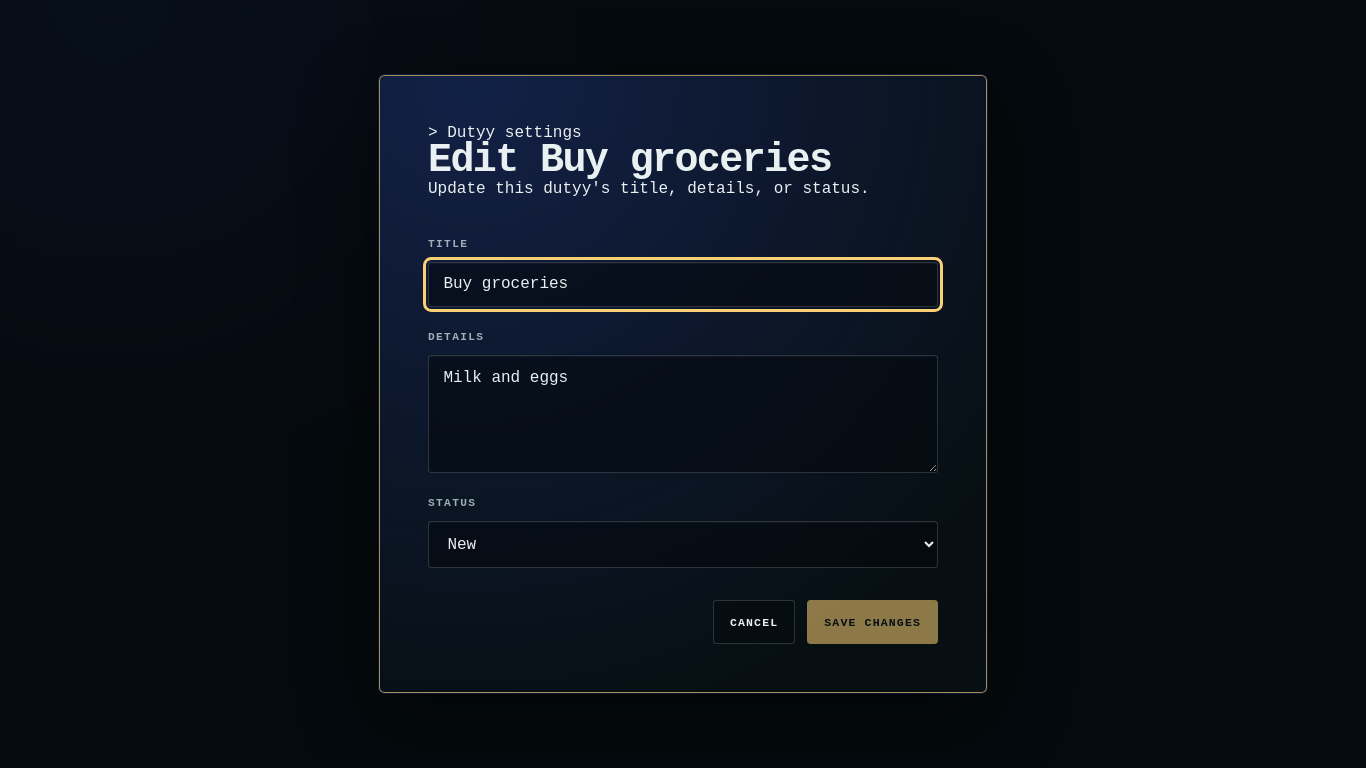
Scenario: EditDutyyModal › keeps the dialog open and shows API failures
The width and height of the screenshot is (1366, 768).
Replace the text in the field labelled "Title" with "Weekly shopping": (683, 284) [428, 262, 938, 307]
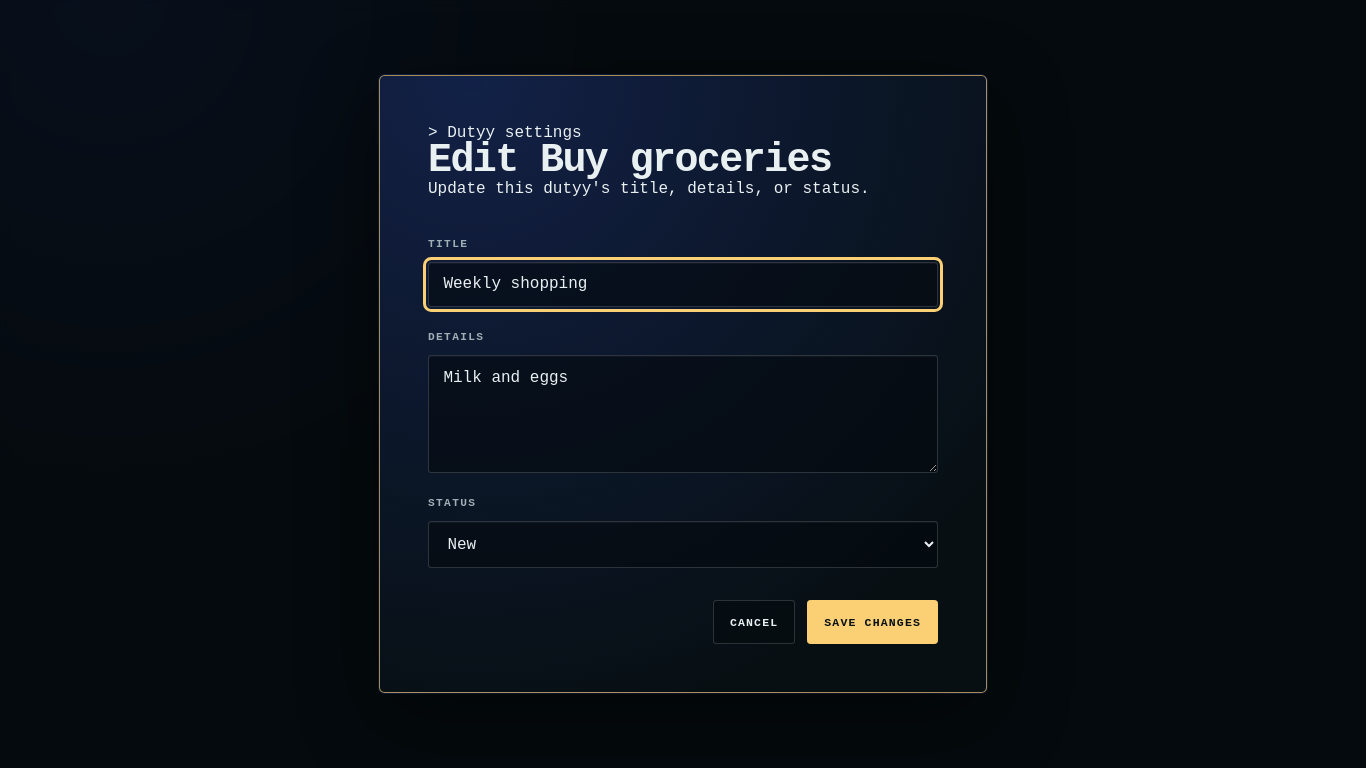
Click the button "Save changes": (873, 622) [807, 600, 938, 644]
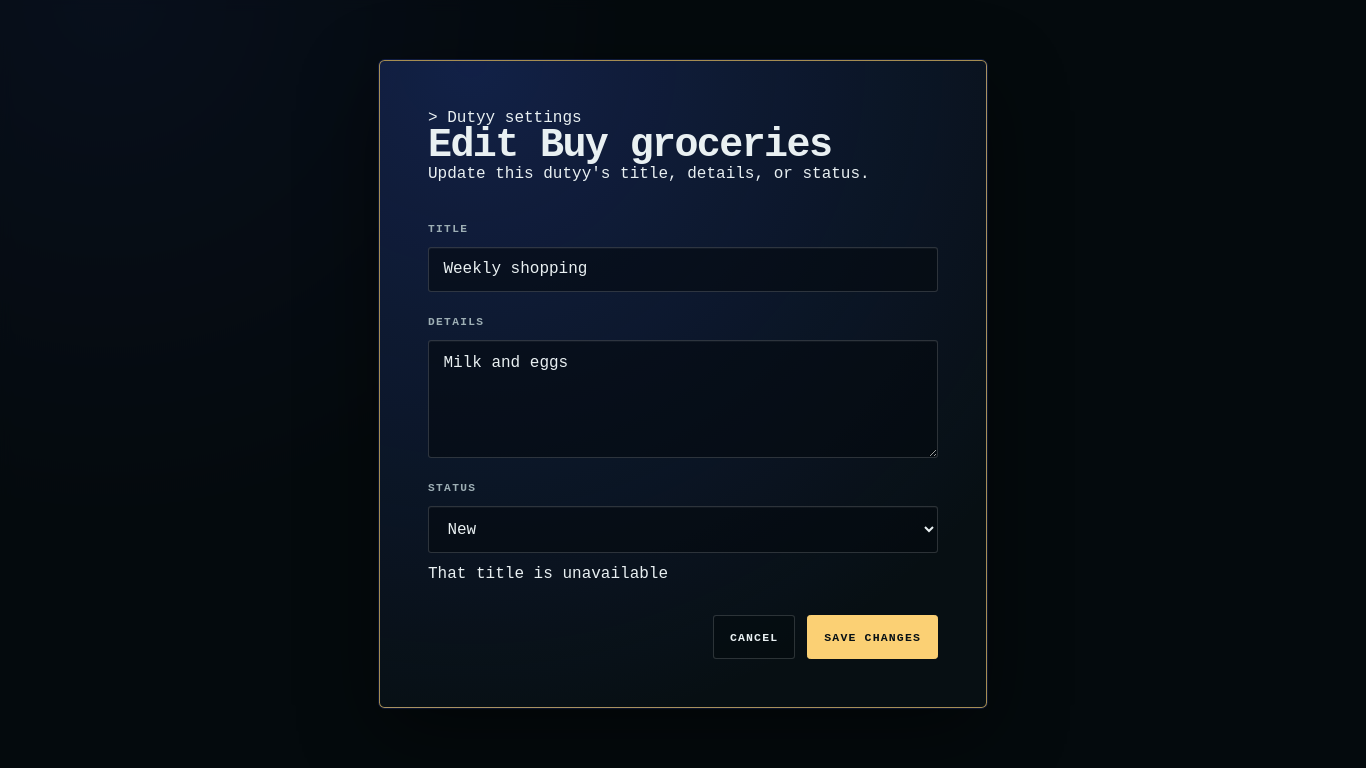
Expected: the dialog is shown, [379, 60, 987, 708]
Expected: the message reads "That title is unavailable", [428, 565, 668, 583]
